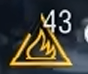1fire: (6, 36, 76, 69)
